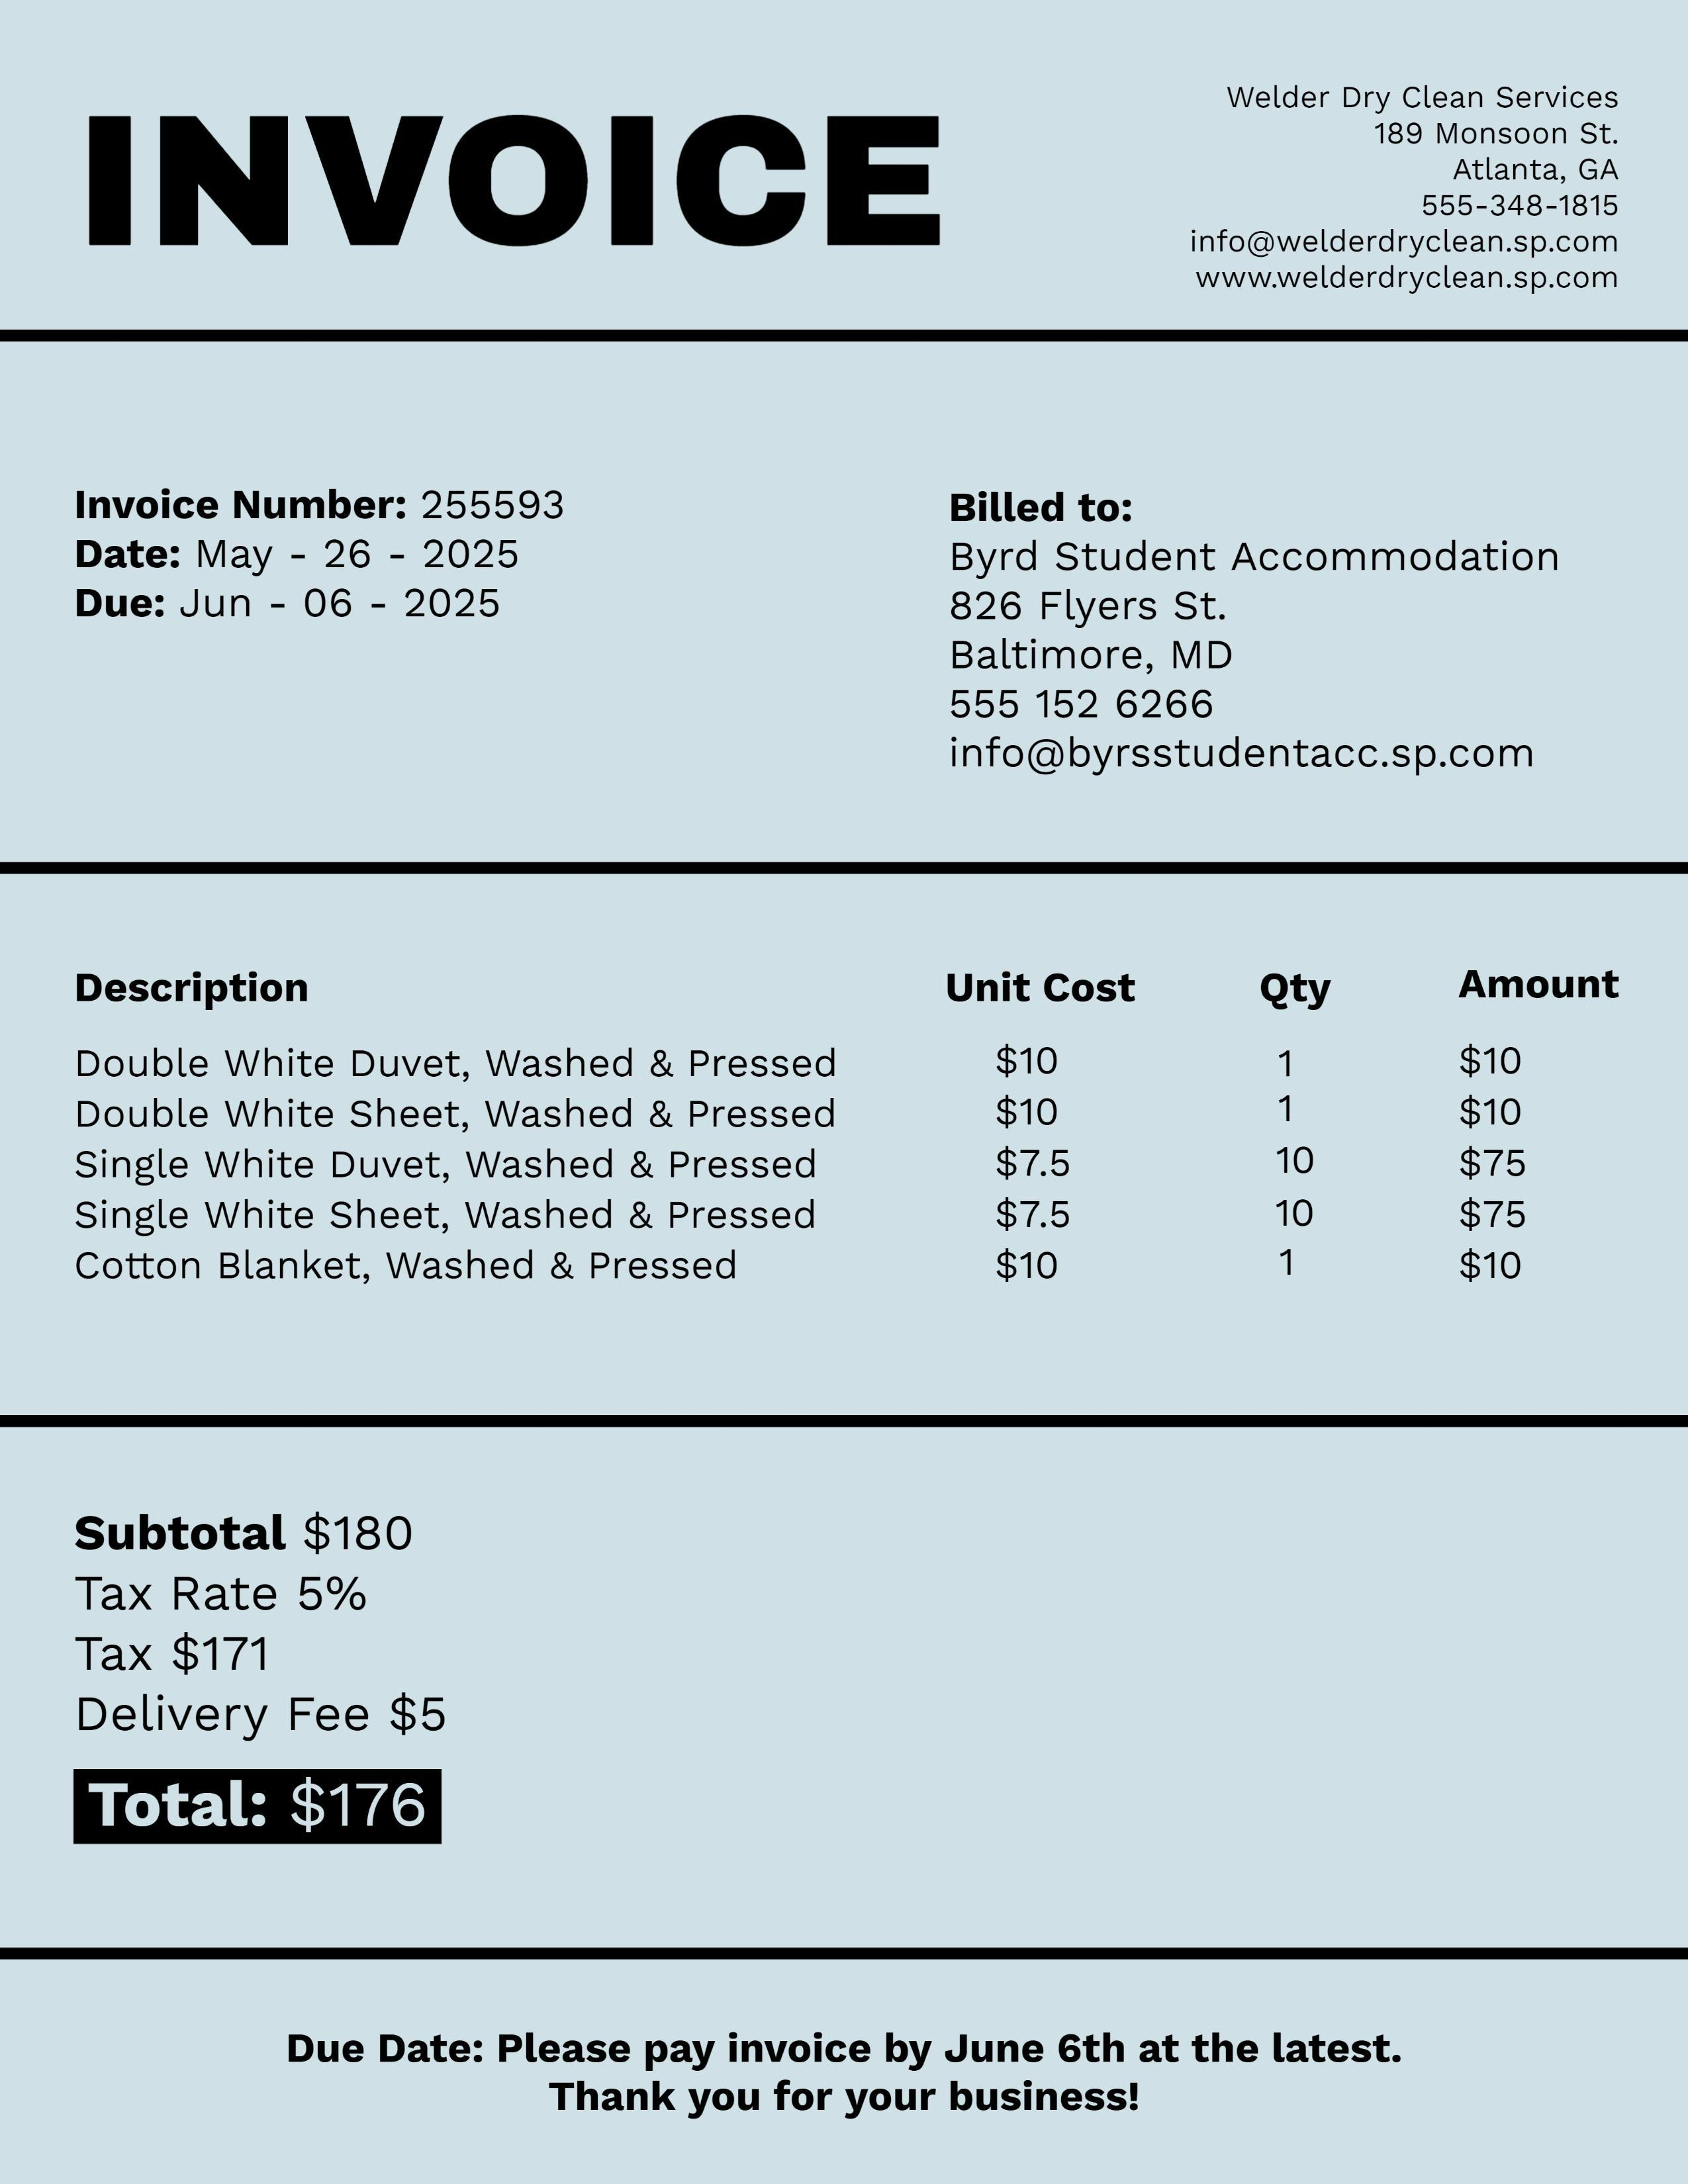ROI: (11, 958, 1658, 1306), (944, 475, 1632, 797), (54, 1484, 447, 1833), (256, 2012, 1433, 2122), (1168, 77, 1639, 314), (56, 465, 583, 639)
